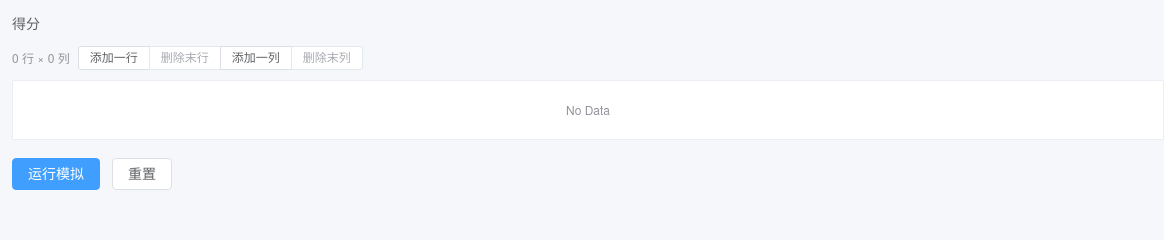
Test: ParamPanel 矩阵参数编辑（CH1-001 无法输入缺陷修复） › 添加行/列后可编辑单元格，payload 为数值矩阵
Click the button with test id "matrix-add-row-scores" at (114, 58), box 78,46 -> 150,70
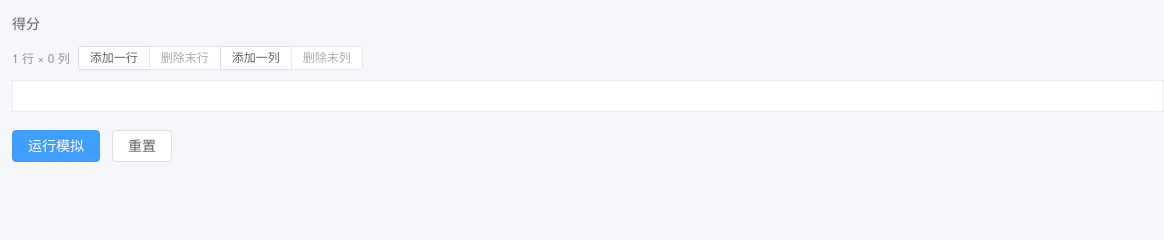
Check: the text with test id "matrix-shape-scores" reads "1 行 × 0 列", box 12,49 -> 70,66
Click the button with test id "matrix-add-col-scores" at (256, 58), box 220,46 -> 292,70
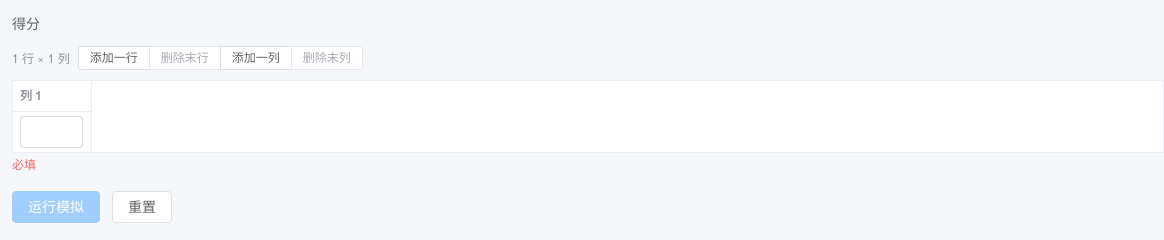
Click the button with test id "matrix-add-col-scores" at (256, 58), box 220,46 -> 292,70
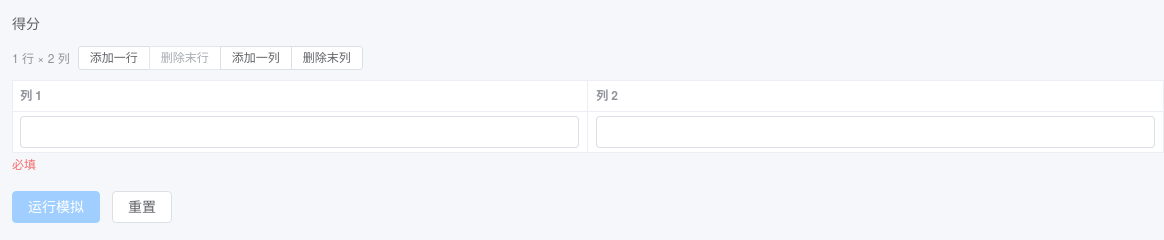
Check: the text with test id "matrix-shape-scores" reads "1 行 × 2 列", box 12,49 -> 70,66
Check: the number of fields is 2
Type "10" into the 1st field at (300, 132), box 31,117 -> 568,147
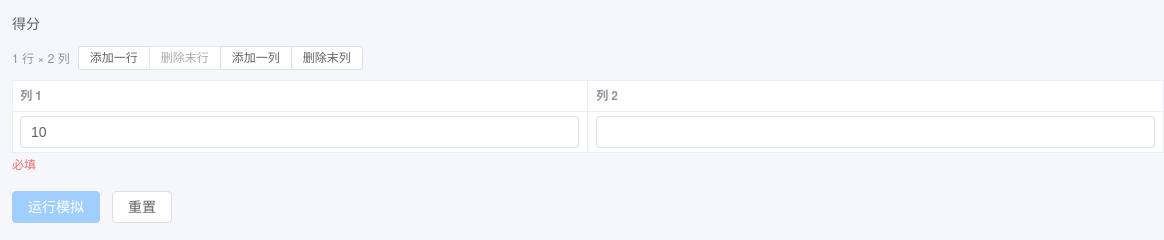
Type "20" into the 2nd field at (876, 132), box 607,117 -> 1144,147
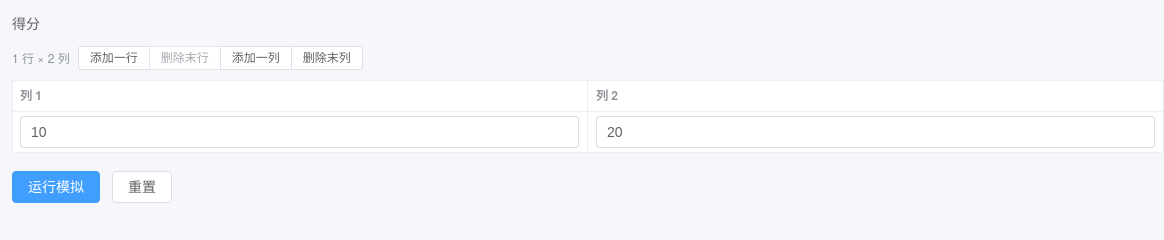
Check: the button with test id "run-submit" is enabled, box 12,171 -> 100,203
